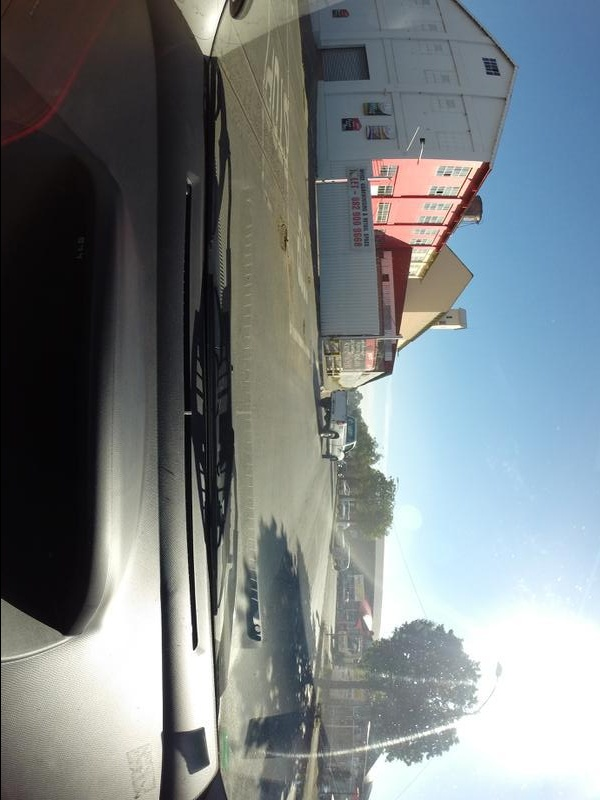pothole: (278, 222, 289, 258), (287, 266, 294, 297), (305, 275, 315, 289), (301, 320, 306, 346)
